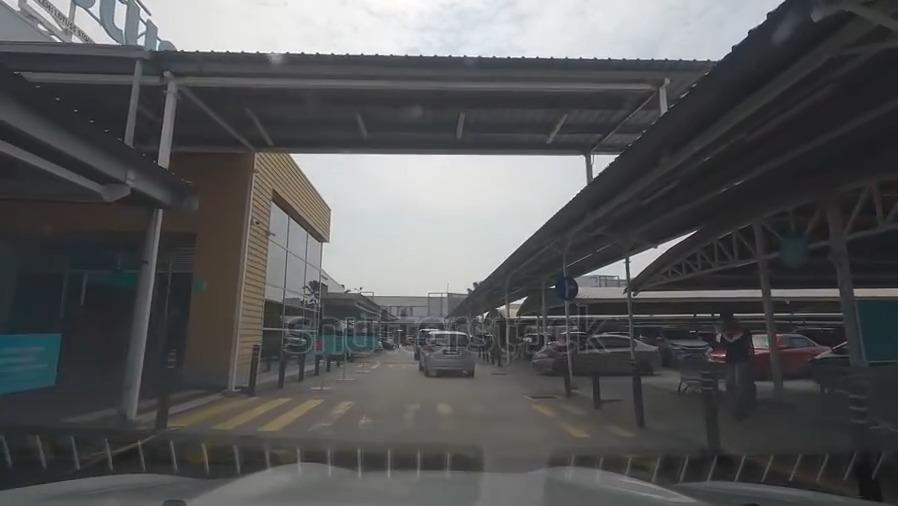car: (533, 332, 658, 375), (709, 331, 831, 372), (414, 330, 475, 376), (653, 327, 711, 359), (811, 337, 850, 372), (413, 327, 439, 357)
manhole: (525, 389, 561, 406), (489, 366, 505, 379)
pedestrian: (194, 390, 635, 446)
person: (713, 306, 760, 420)
